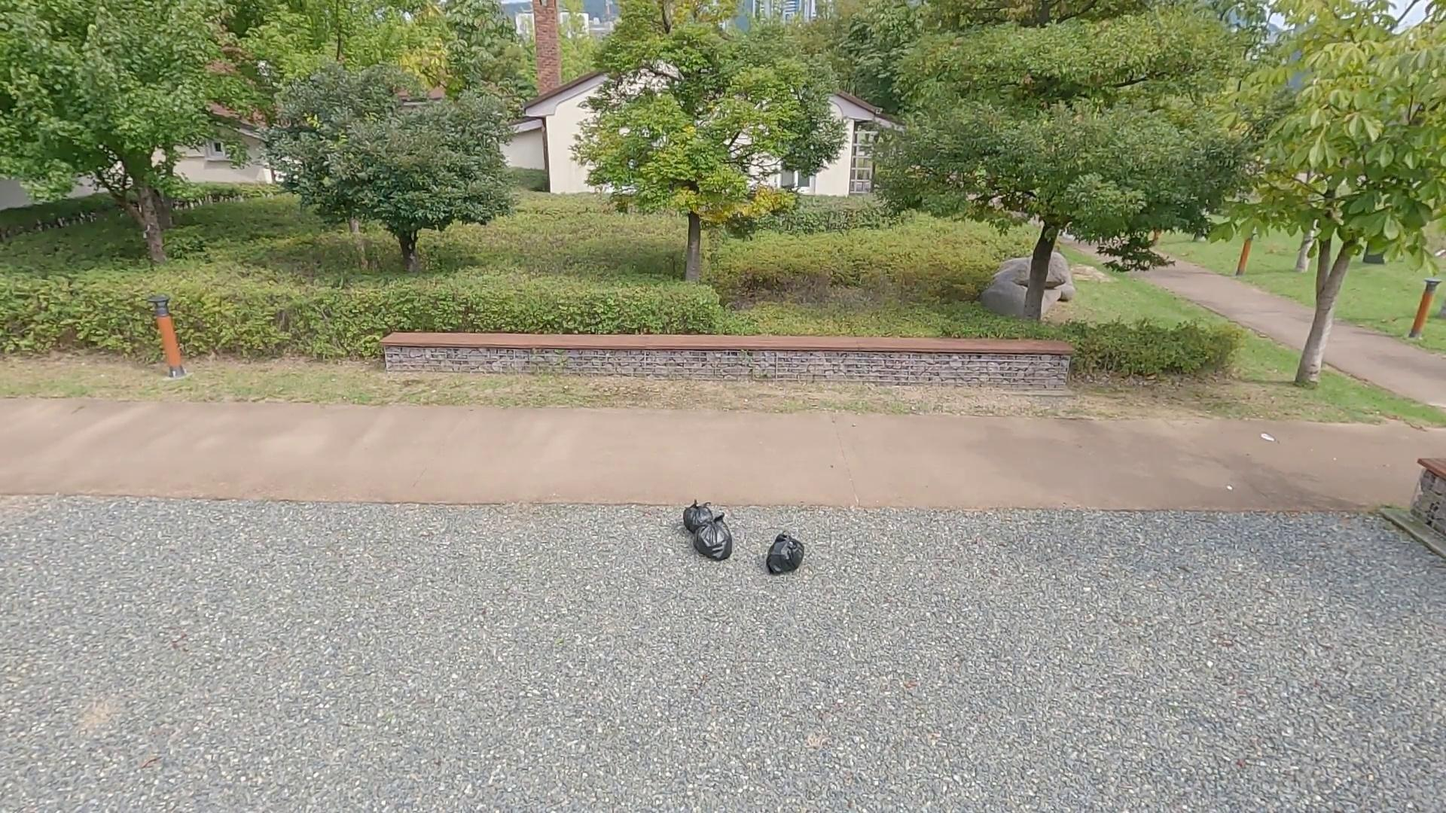trash: (695, 514, 733, 563), (762, 532, 804, 574), (683, 499, 715, 532)
